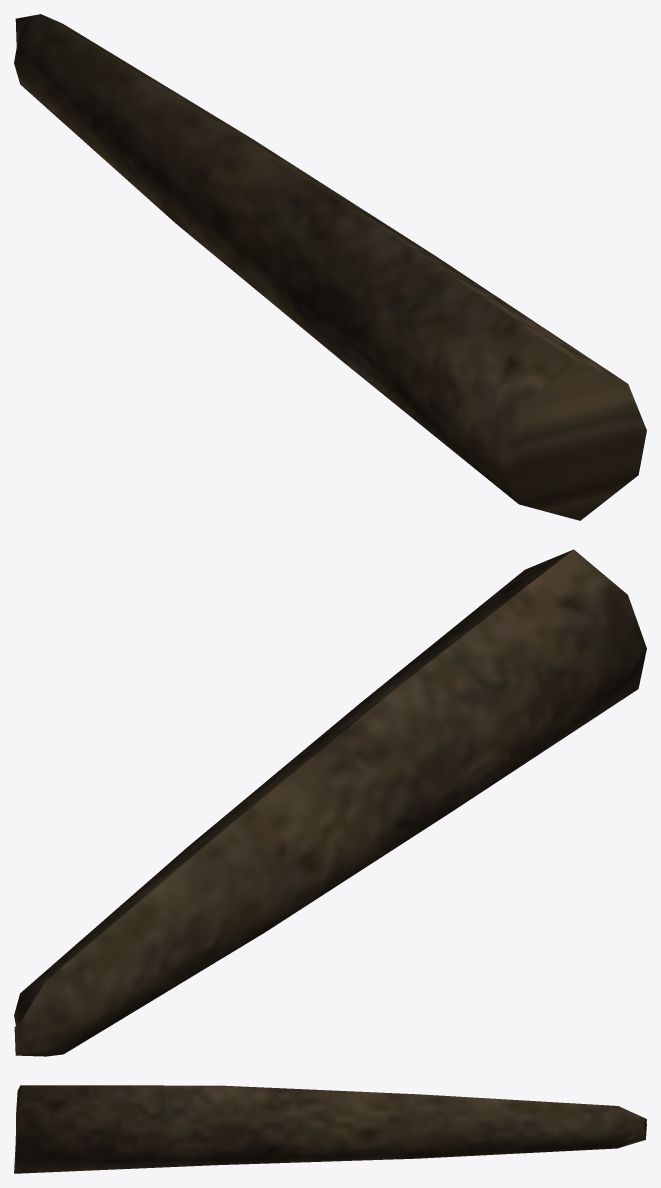
The model's file is cola3.obj.
3 renders of one model, top to bottom at view 1: azimuth 30°, elevation 25°; view 2: azimuth 150°, elevation 25°; view 3: azimuth 270°, elevation 25°, orthographic. The views are drawn at different scales.
Parts seen in each view (by area): view 1: X360_XO-W_AMBIANT_Monkey.005; view 2: X360_XO-W_AMBIANT_Monkey.005; view 3: X360_XO-W_AMBIANT_Monkey.005.
Boxes of the visible parts, box(x1,y1,x2,y2) form: X360_XO-W_AMBIANT_Monkey.005: box(14, 14, 646, 520); X360_XO-W_AMBIANT_Monkey.005: box(14, 549, 646, 1056); X360_XO-W_AMBIANT_Monkey.005: box(14, 1085, 646, 1173).
Size of the model in its own units: 0.0111 by 0.0121 by 0.0783.
1 material, 1 textured.
